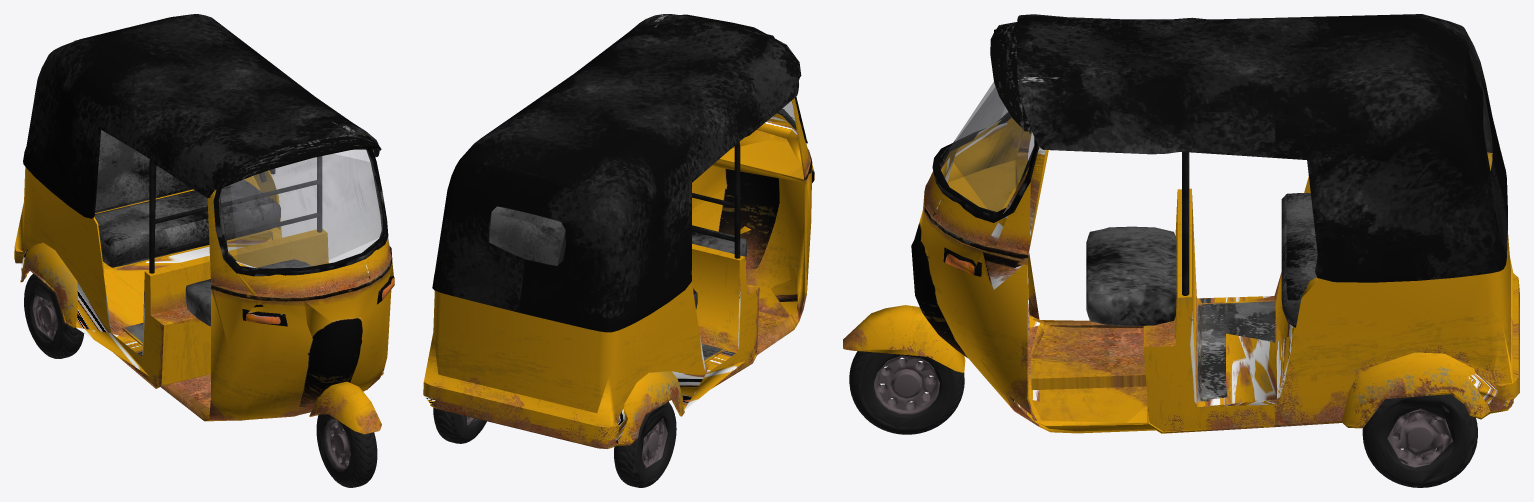
File: kl_auto.glb
3 renders of one model, left to right at view 1: azimuth 30°, elevation 25°; view 2: azimuth 150°, elevation 25°; view 3: azimuth 270°, elevation 25°, orthographic. The views are drawn at different scales.
Parts seen in each view (by area): view 1: body_0 (×2), body_3 (×2), body_4 (×2), spin (×2), body_2 (×2), body_1 (×2); view 2: body_3 (×2), body_0 (×2), spin (×3), body_4; view 3: body_3 (×2), body_0 (×2), body_4 (×2), spin (×2), body_2 (×2), body_1 (×2).
Part boxes in pixels (<box>): body_0 (×2): <box>14,134,394,434</box>; body_3 (×2): <box>23,14,379,326</box>; body_4 (×2): <box>219,148,382,268</box>; spin (×2): <box>24,273,84,358</box>; body_2 (×2): <box>316,414,377,487</box>; body_1 (×2): <box>325,419,350,469</box>; body_3 (×2): <box>432,14,798,332</box>; body_0 (×2): <box>423,14,814,448</box>; spin (×3): <box>433,401,676,487</box>; body_4: <box>489,101,794,265</box>; body_3 (×2): <box>1016,14,1507,327</box>; body_0 (×2): <box>843,22,1519,433</box>; body_4 (×2): <box>940,82,1492,212</box>; spin (×2): <box>1362,394,1477,487</box>; body_2 (×2): <box>849,351,964,434</box>; body_1 (×2): <box>874,355,939,414</box>.
Bounding box in the file's own units: 1.13 × 1.67 × 2.63.
5 materials, 3 textured.
